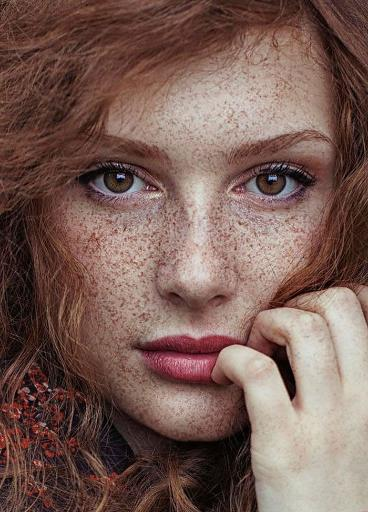left_eye: (230, 168, 316, 211)
right_eye: (74, 159, 160, 204)
right_lip_corner: (131, 335, 154, 364)
